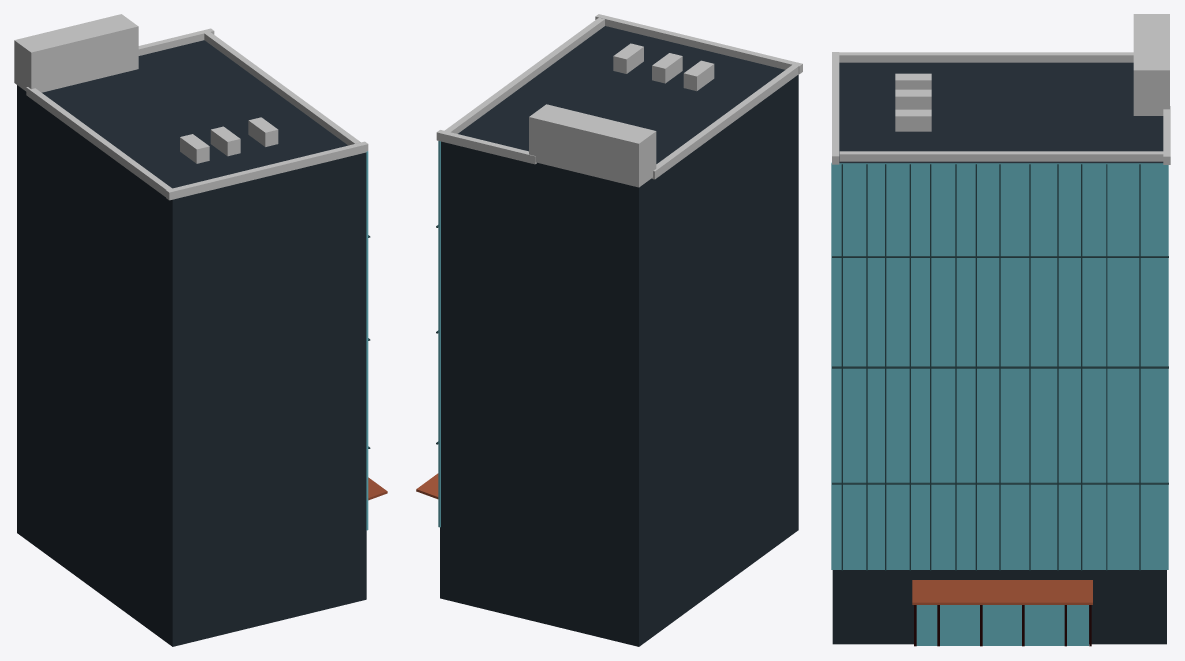
The model's file is Building-1Tall.obj.
3 renders of one model, left to right at view 1: azimuth 30°, elevation 25°; view 2: azimuth 150°, elevation 25°; view 3: azimuth 270°, elevation 25°, orthographic. The views are drawn at different scales.
Parts seen in each view (by area): view 1: Cube.020; view 2: Cube.020; view 3: Cube.020.
Part boxes in pixels (left/top/right/bottom): Cube.020: left=14, top=14, right=387, bottom=646; Cube.020: left=416, top=14, right=802, bottom=646; Cube.020: left=831, top=14, right=1170, bottom=646.
Size of the model in its own units: 31.56 by 58.1 by 33.81.
